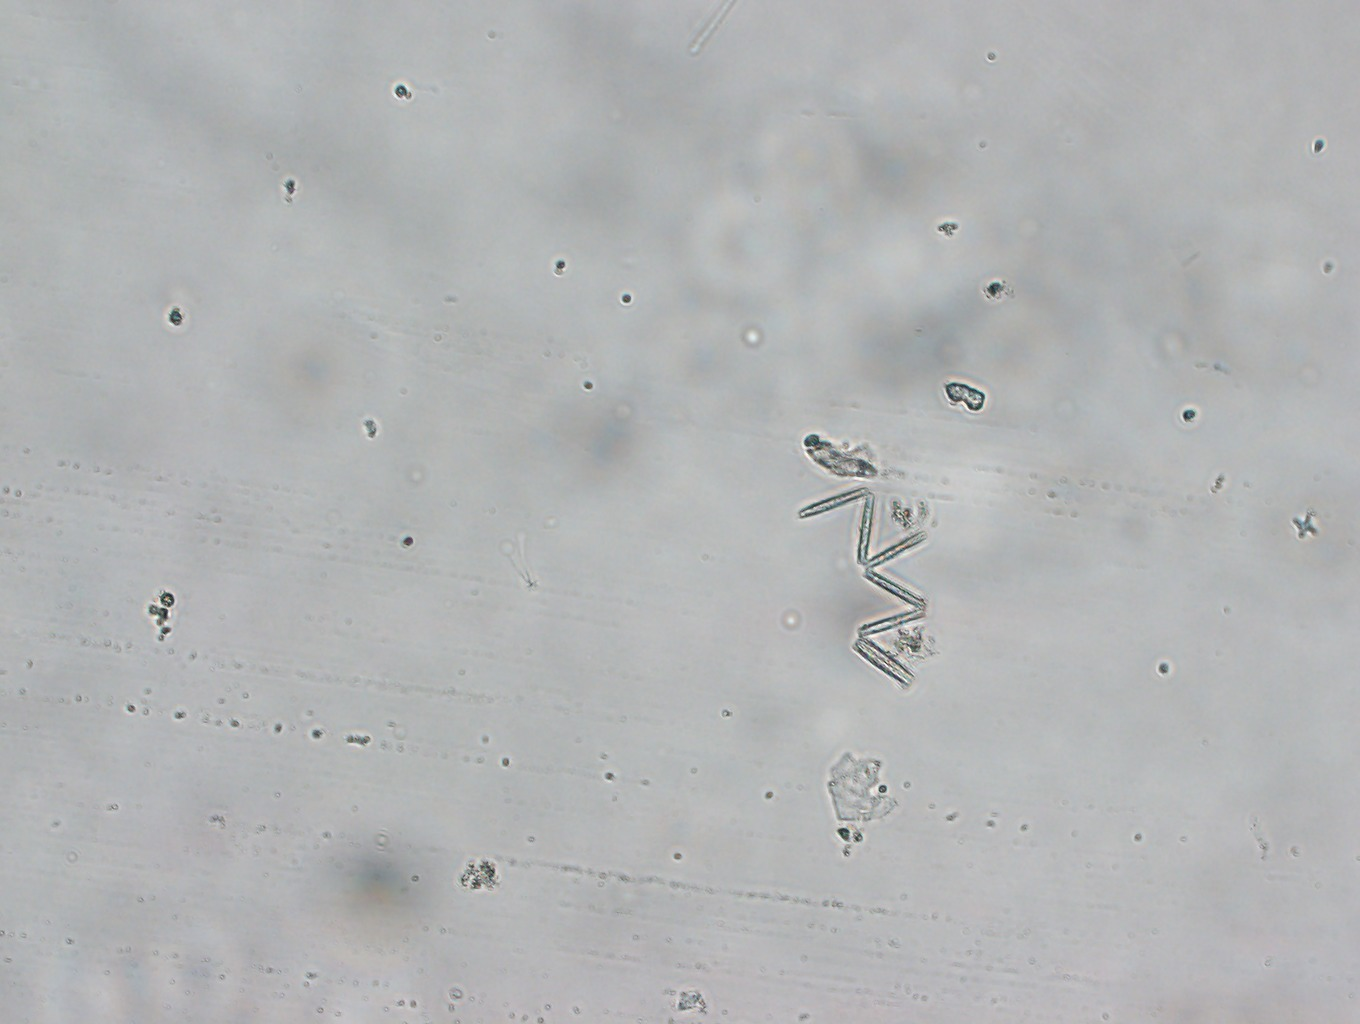thalassionema nitzschioides: (784, 478, 936, 702)
